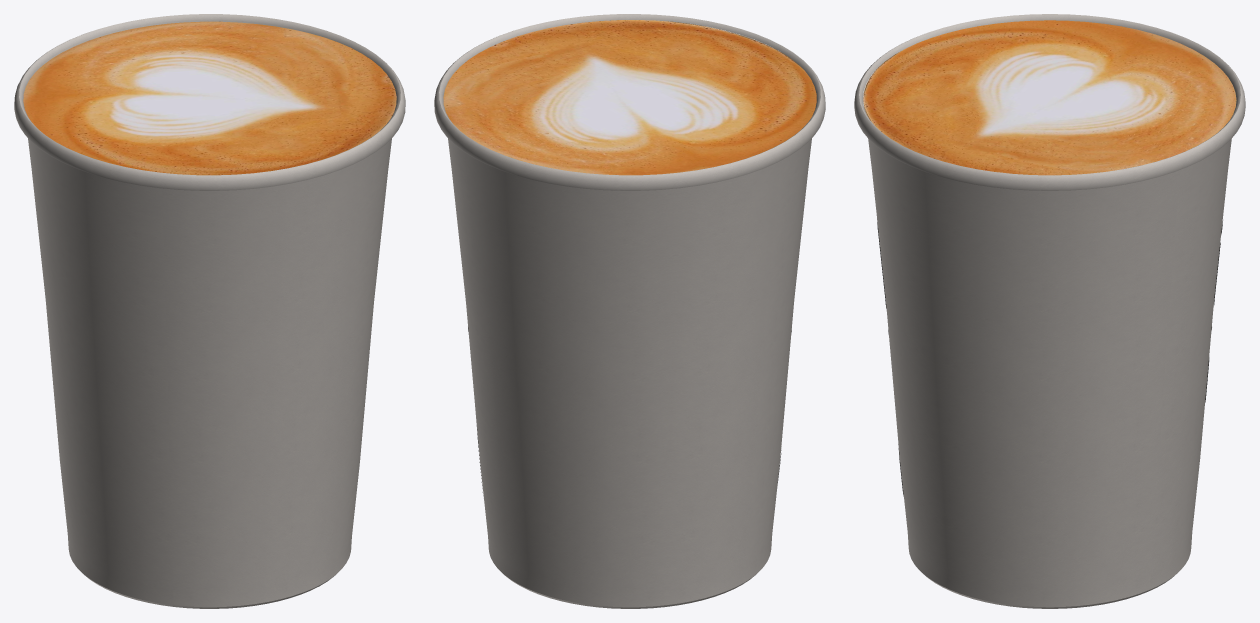
The model's file is cup.glb.
3 renders of one model, left to right at view 1: azimuth 30°, elevation 25°; view 2: azimuth 150°, elevation 25°; view 3: azimuth 270°, elevation 25°, orthographic.
Visible parts, largest first — view 1: Empty, liquid; view 2: Empty, liquid; view 3: Empty, liquid.
Boxes of the visible parts, x1,y1,x2,y2 form: Empty: (14, 14, 405, 608); liquid: (23, 21, 396, 175); Empty: (434, 14, 825, 608); liquid: (443, 20, 816, 175); Empty: (854, 14, 1245, 608); liquid: (863, 20, 1236, 175).
Size of the model in its own units: 0.0661 by 0.0851 by 0.0661.
5 materials, 4 textured.
